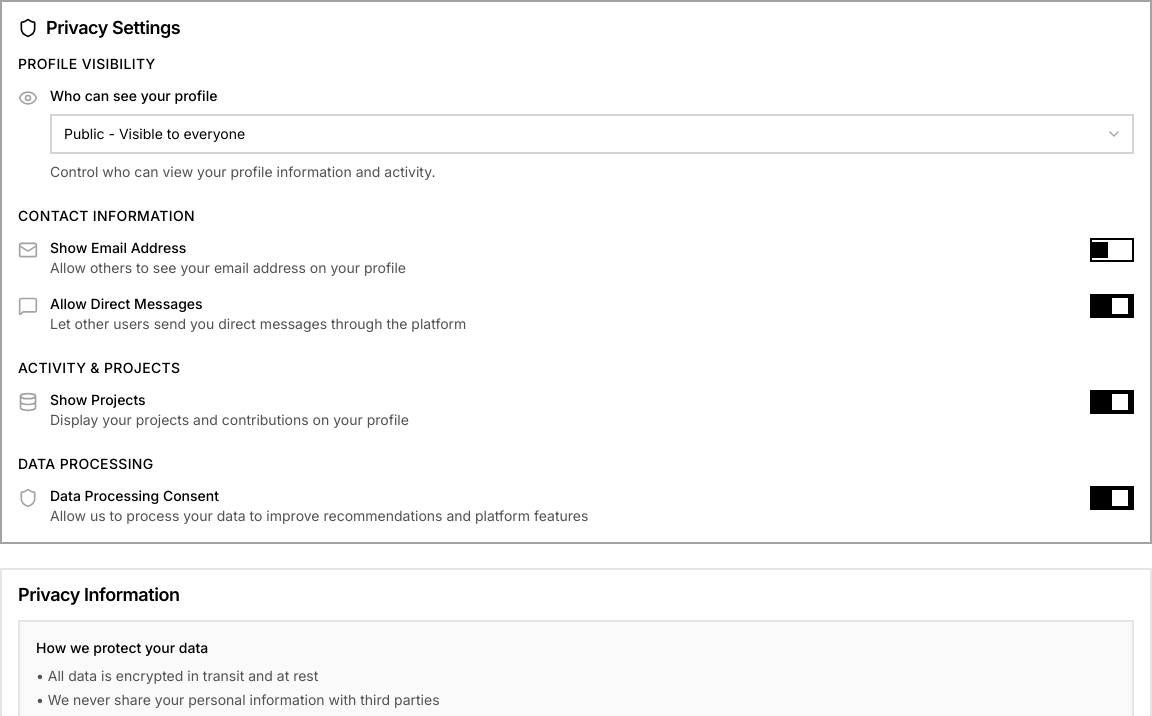
PrivacySettings › allows toggling privacy switches
The width and height of the screenshot is (1152, 716).
Click the switch in the row of "Show Email Address" at (1112, 250), box [1090,238,1134,262]
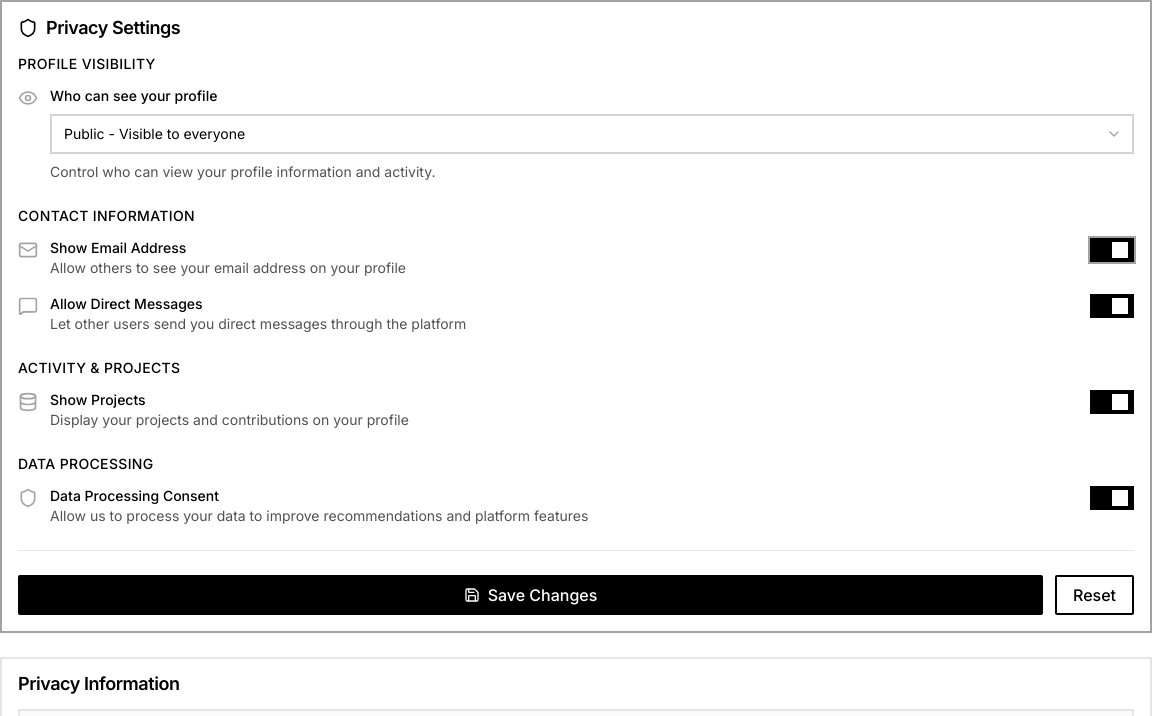
Now the button "Save Changes" is shown, box [18,575,1043,615]
